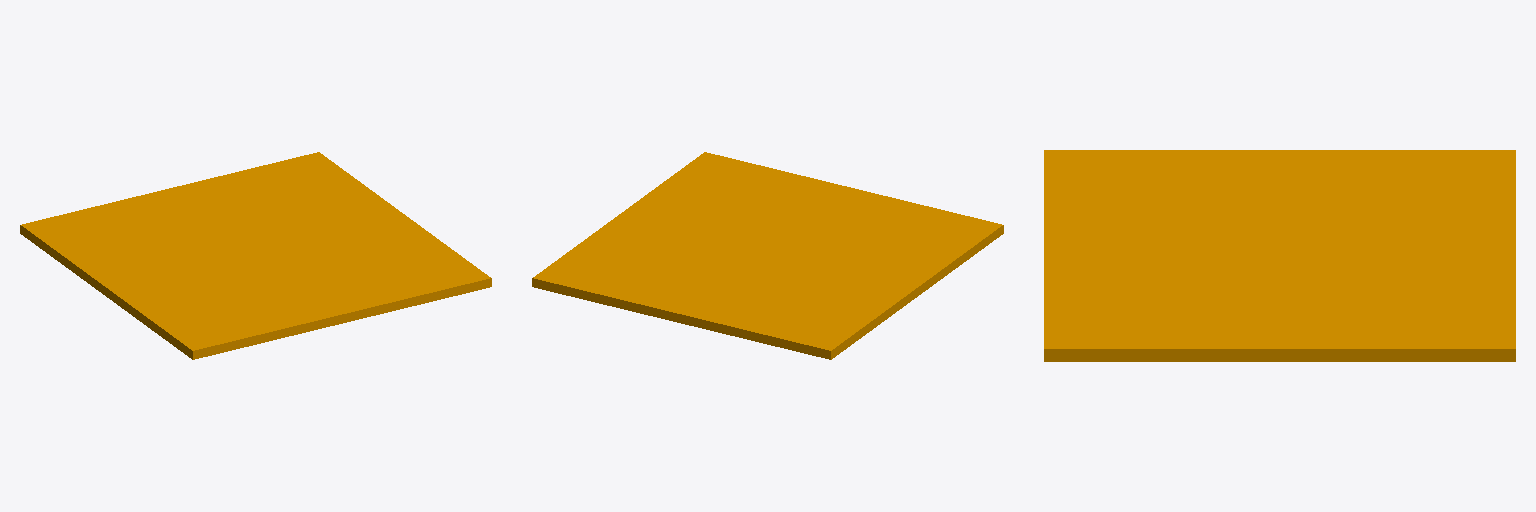
robot.urdf — flat_surface:
<?xml version="0.0" ?>
<robot name="flat_surface">
  <link  concave="no" name="surfaceLink">
  <contact>
      <lateral_friction value="1"/>
  </contact>
    <inertial>
      <origin rpy="0 0 0" xyz="0 0 0"/>
       <mass value=".0"/>
       <inertia ixx="0" ixy="0" ixz="0" iyy="0" iyz="0" izz="0"/>
    </inertial>
    <visual>
      <origin rpy="0 0 0" xyz="0 0 0"/>
      <geometry>
		<mesh filename="flatSurface.obj" scale="1 1 1"/>
        <!-- <mesh filename="flatSurfaceLarge.obj" scale="1 1 1"/> -->
      </geometry>
       <!-- <material name="orange">
        <color rgba="1.0 0.423529411765 0.0392156862745 0.8"/>
      </material> -->
    </visual>
    <collision concave="no">
      <origin rpy="0 0 0" xyz="0 0 0"/>
      <geometry>
	 	<!-- <box size="200 200 10"/> -->
		<mesh filename="flatSurface.stl"/>
      </geometry>
    </collision>
  </link>
</robot>

--- What the picture shows (computed from the rendered views, not written in the file) ---
Views: 3 orthographic renders of the robot side by side, from view 1: azimuth 30°, elevation 25°; view 2: azimuth 150°, elevation 25°; view 3: azimuth 270°, elevation 25°.
Robot: flat_surface — 1 links, 0 joints (none); root link surfaceLink; default pose: every joint at zero.
Links seen in each view (by area): view 1: surfaceLink; view 2: surfaceLink; view 3: surfaceLink.
Link boxes in pixels (x1,y1,x2,y2): surfaceLink: (20, 152, 491, 359); surfaceLink: (532, 152, 1003, 359); surfaceLink: (1044, 150, 1515, 361).
Bounding box of the posed robot: 1.03 × 1.03 × 0.0299 m (x, y, z).
1 mesh visuals loaded from 1 distinct referenced files (1 OBJ).